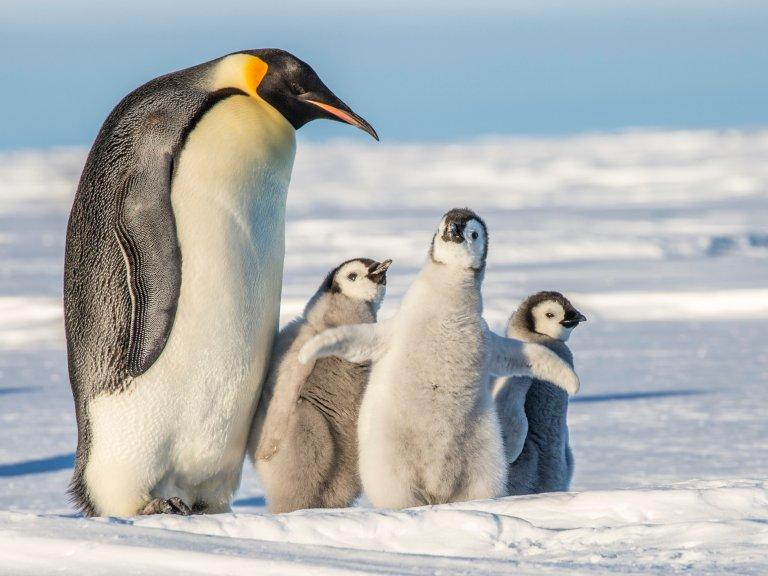emporer: (55, 39, 384, 533)
